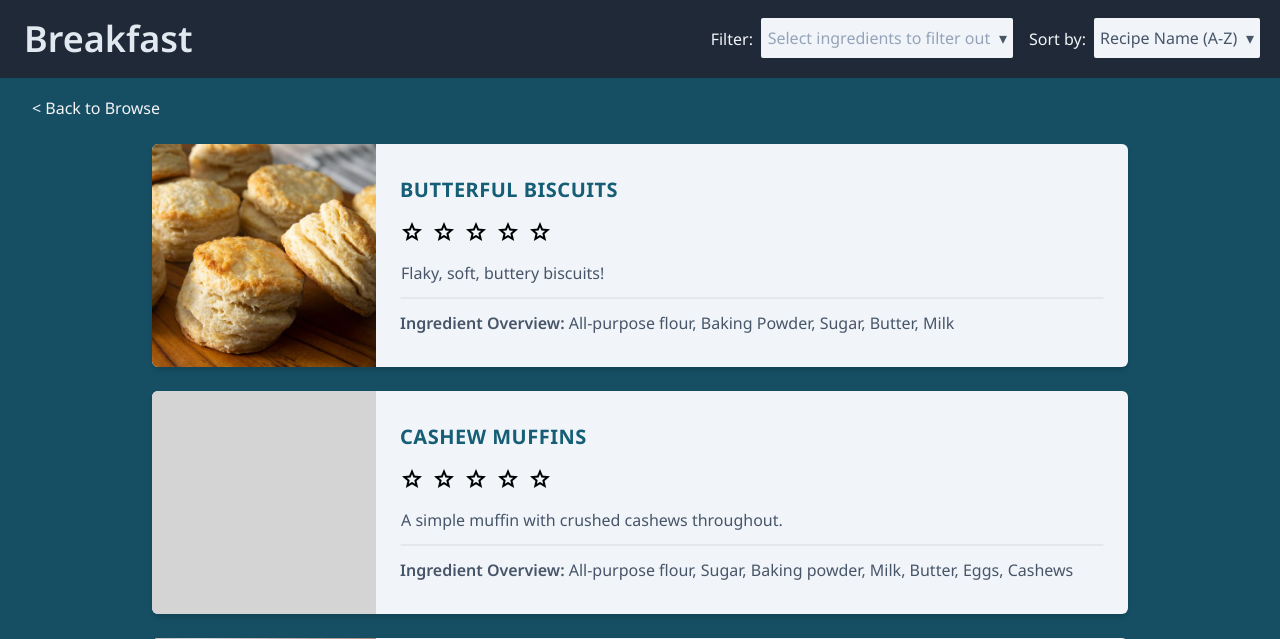
Test: filter options › filter out two ingredients 2
Step 1. Click the button with id "filter_button" → (887,38), box [761,18,1013,58]
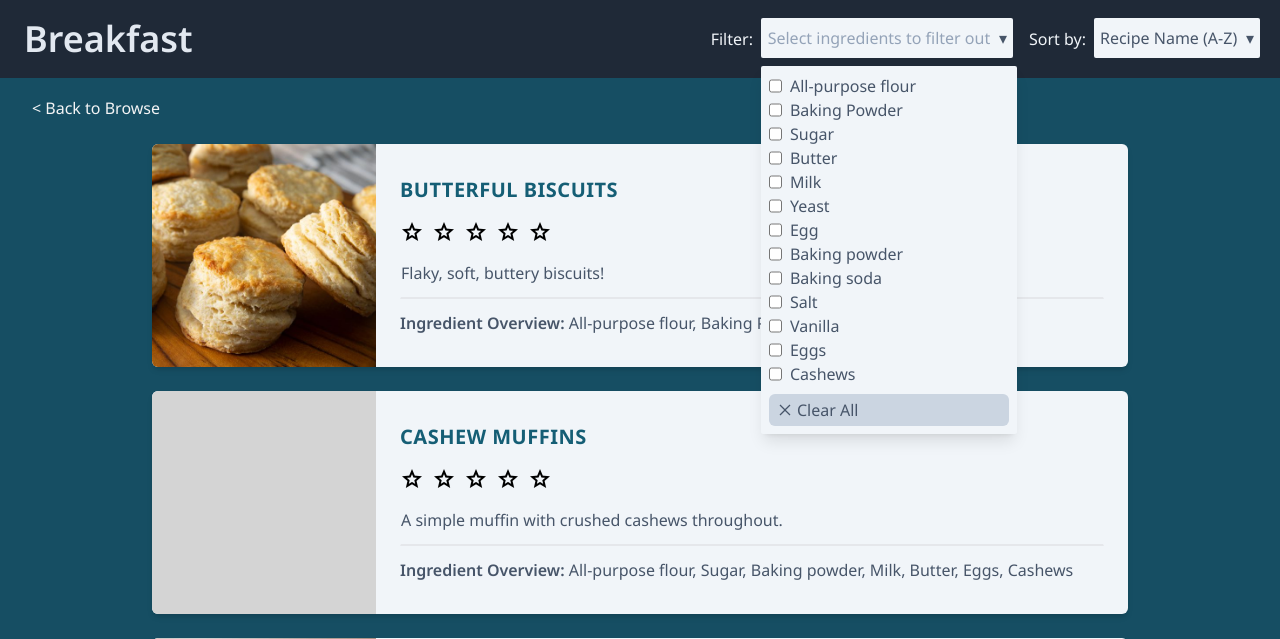
Step 2. Click the list item "All-purpose flour" → (843,86), box [769,74,916,98]
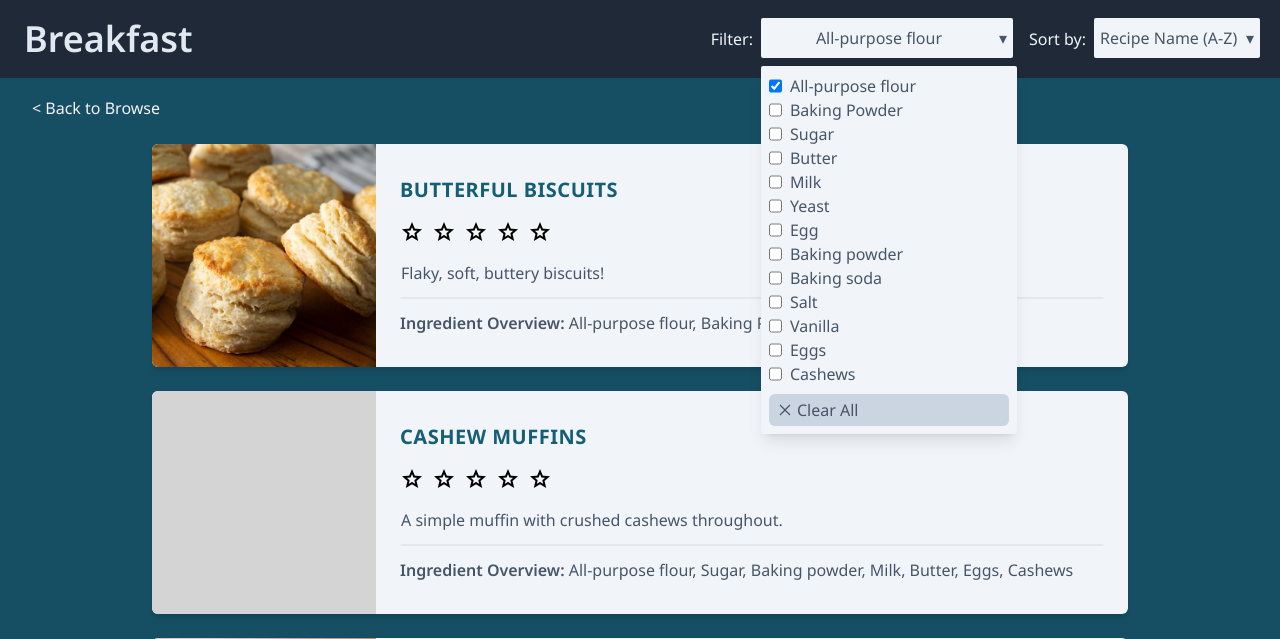
Step 3. Click the list item "Baking Powder" → (836,110), box [769,98,903,122]
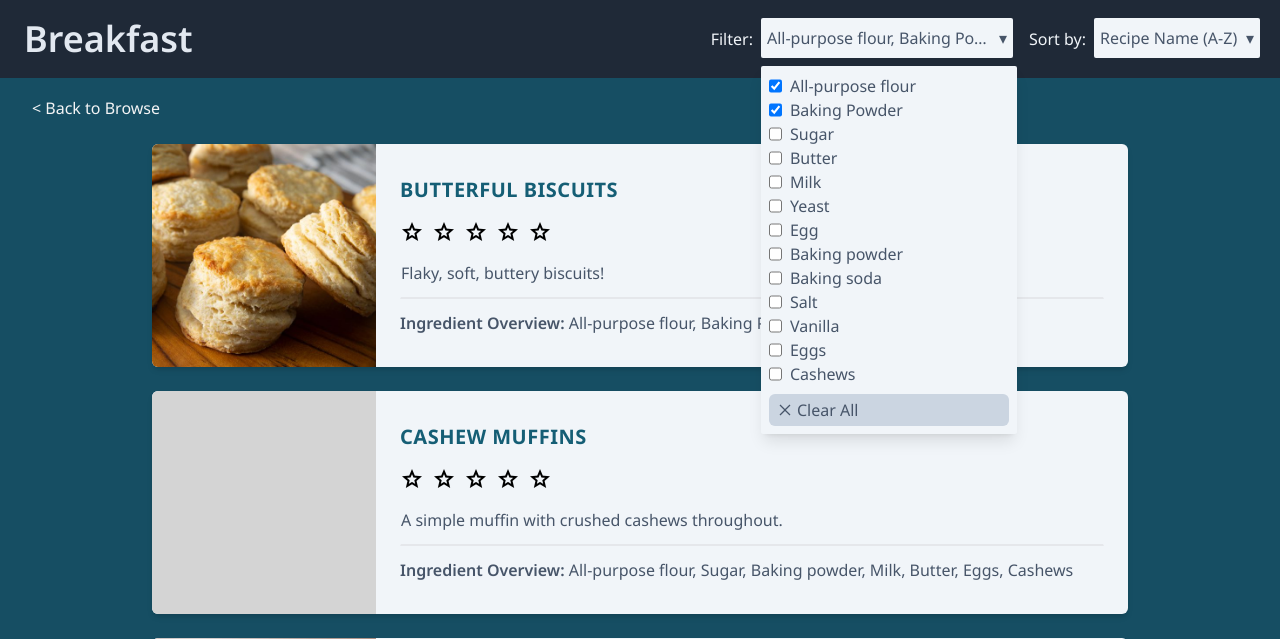
Step 4. Click the heading "Breakfast" → (109,39), box [24,12,193,66]
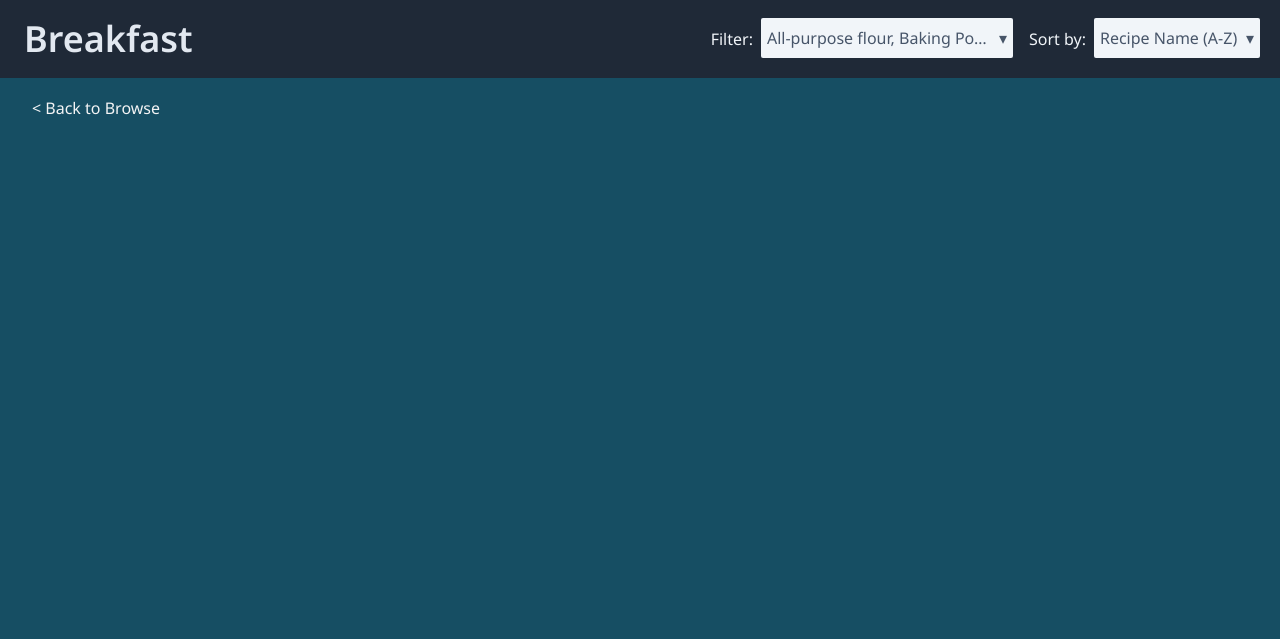
expect no list items are shown: met
